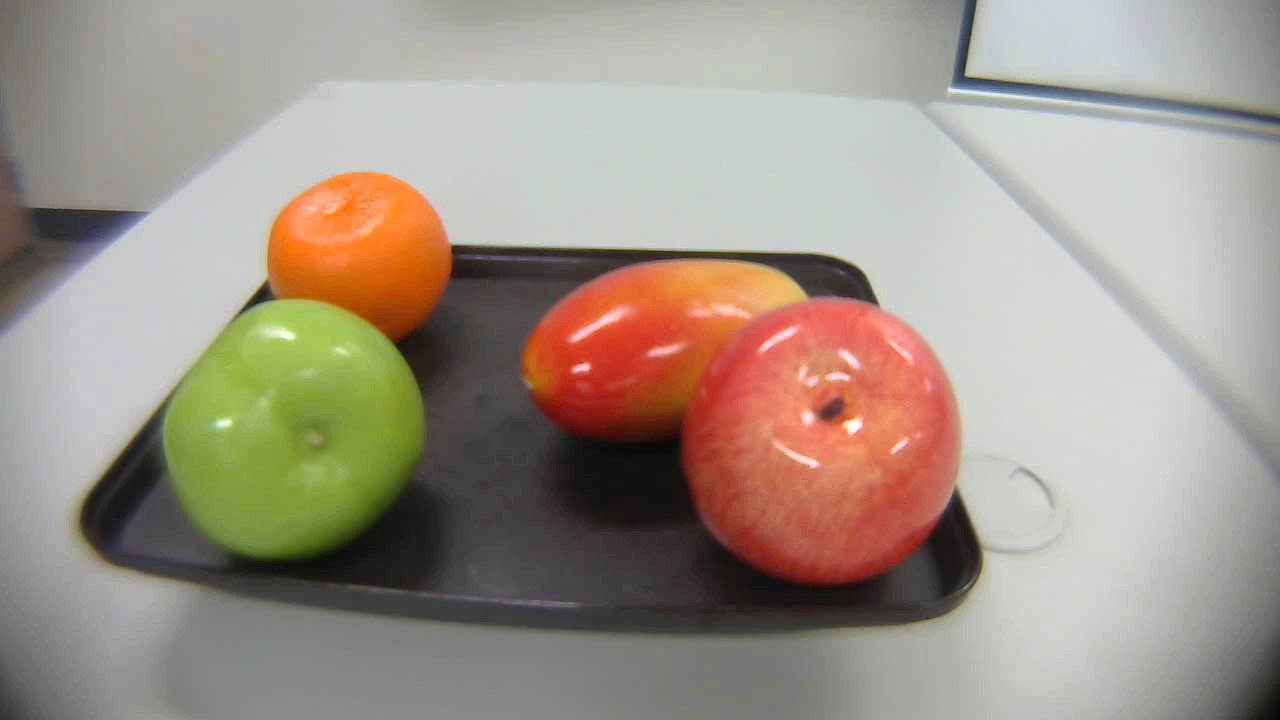green pear: (157, 294, 430, 569)
orange: (268, 168, 465, 354)
red apple: (680, 291, 972, 588)
red mango: (507, 256, 833, 441)
